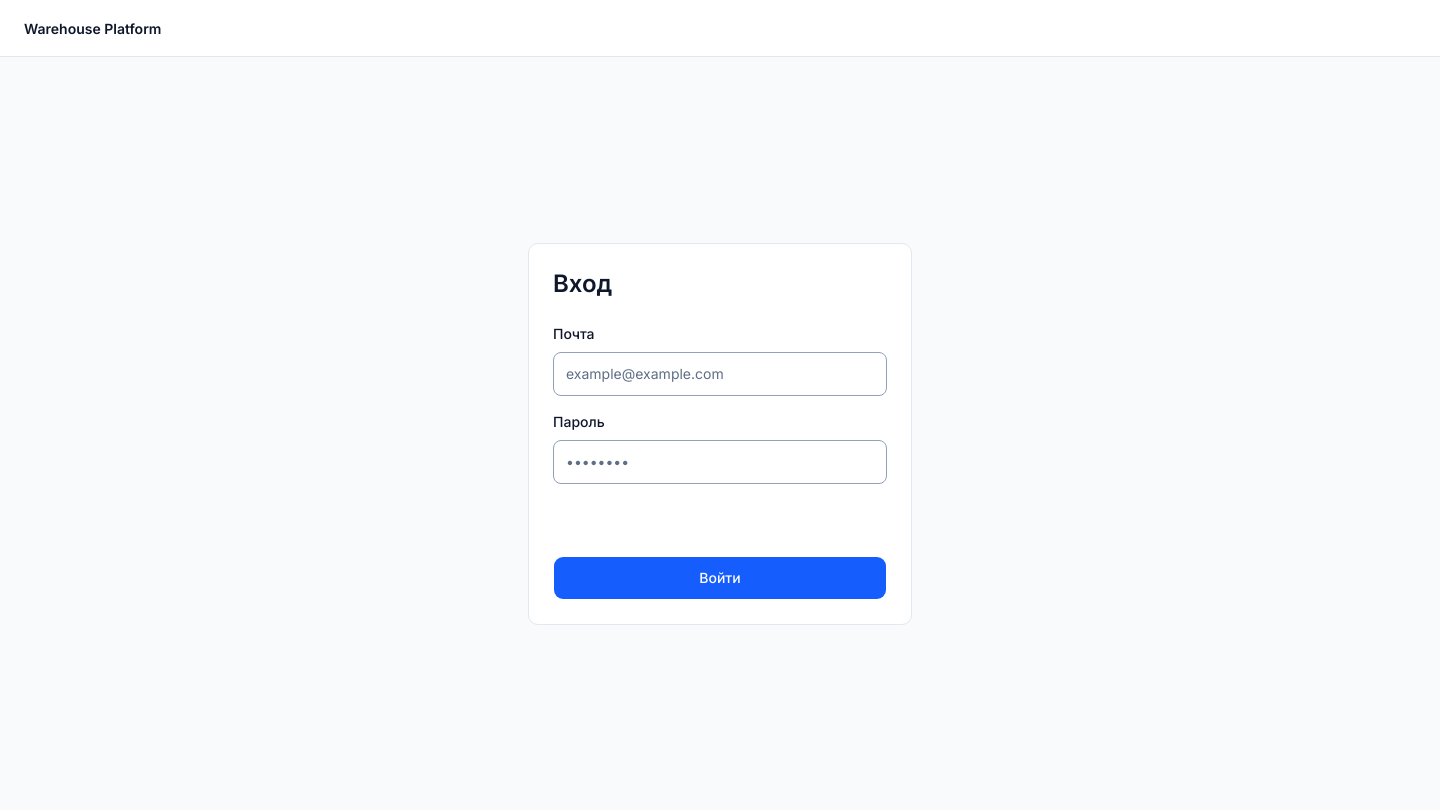
it: LoginPage › снова показывает ошибку, если после исправления очистить пароль
Click the button "Войти" at (720, 578), box [553,556,887,600]
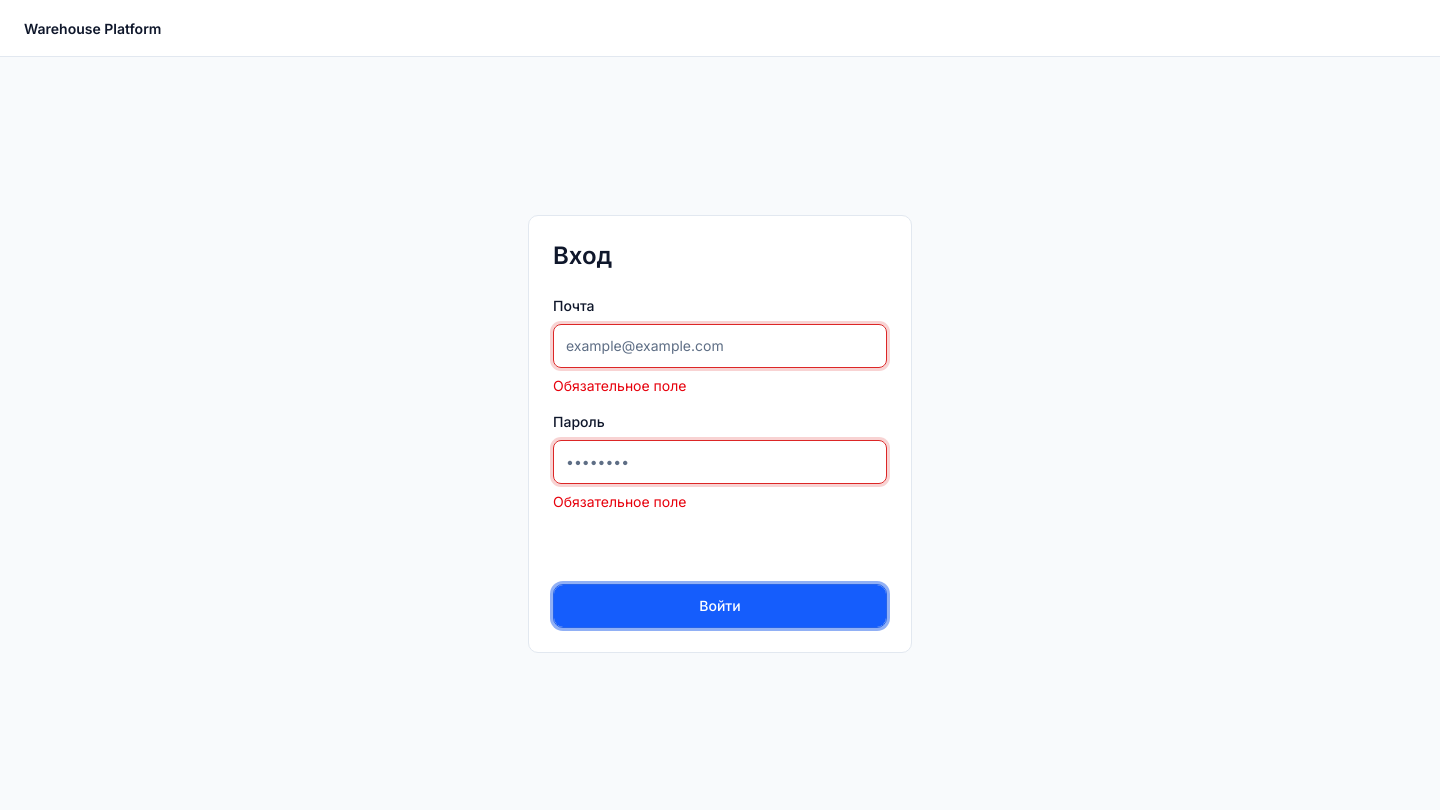
Type "secret" into the password field labelled "Пароль" at (720, 462), box [553,440,887,484]
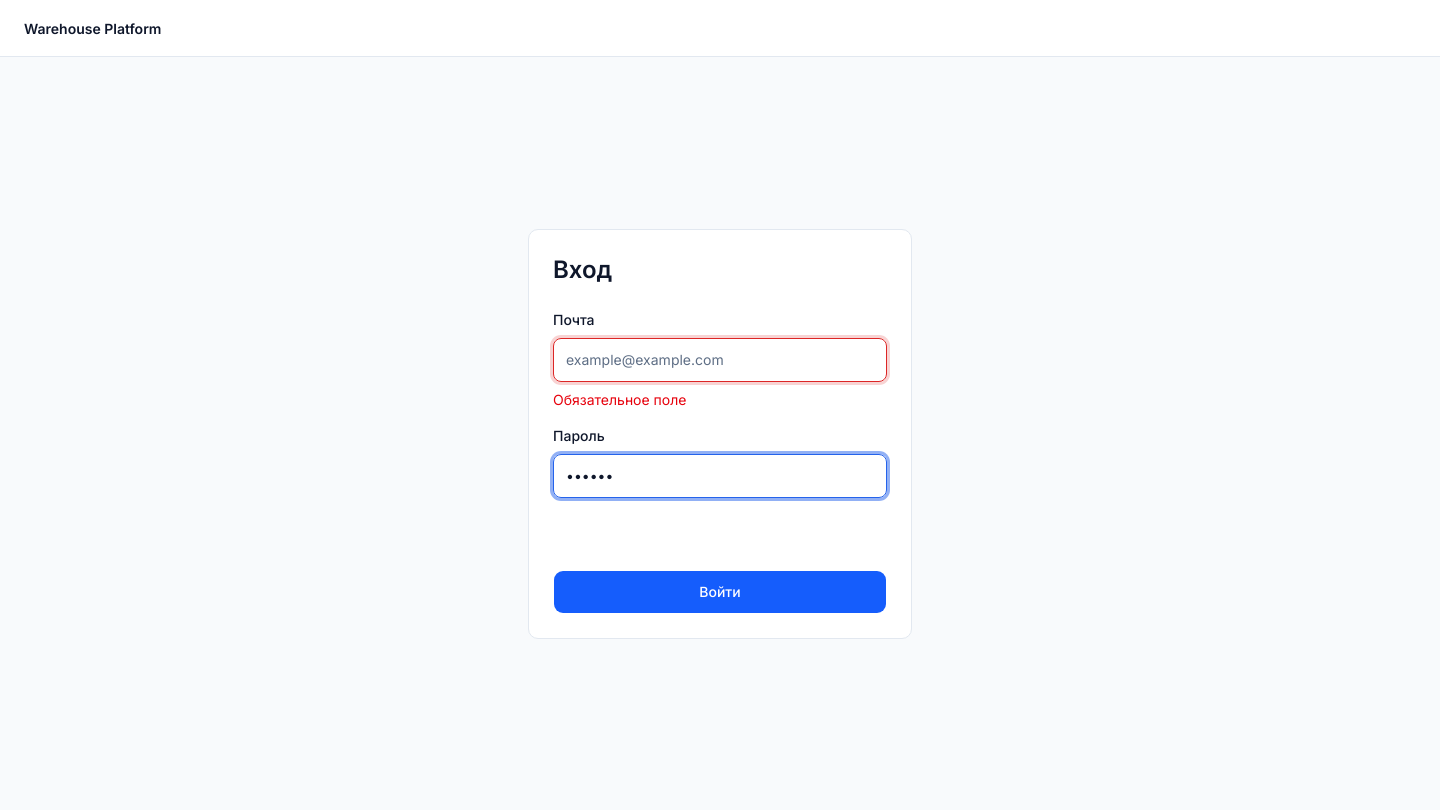
Now the password field labelled "Пароль" does not have attribute aria-invalid="true"
Clear the password field labelled "Пароль" at (720, 476), box [553,454,887,498]
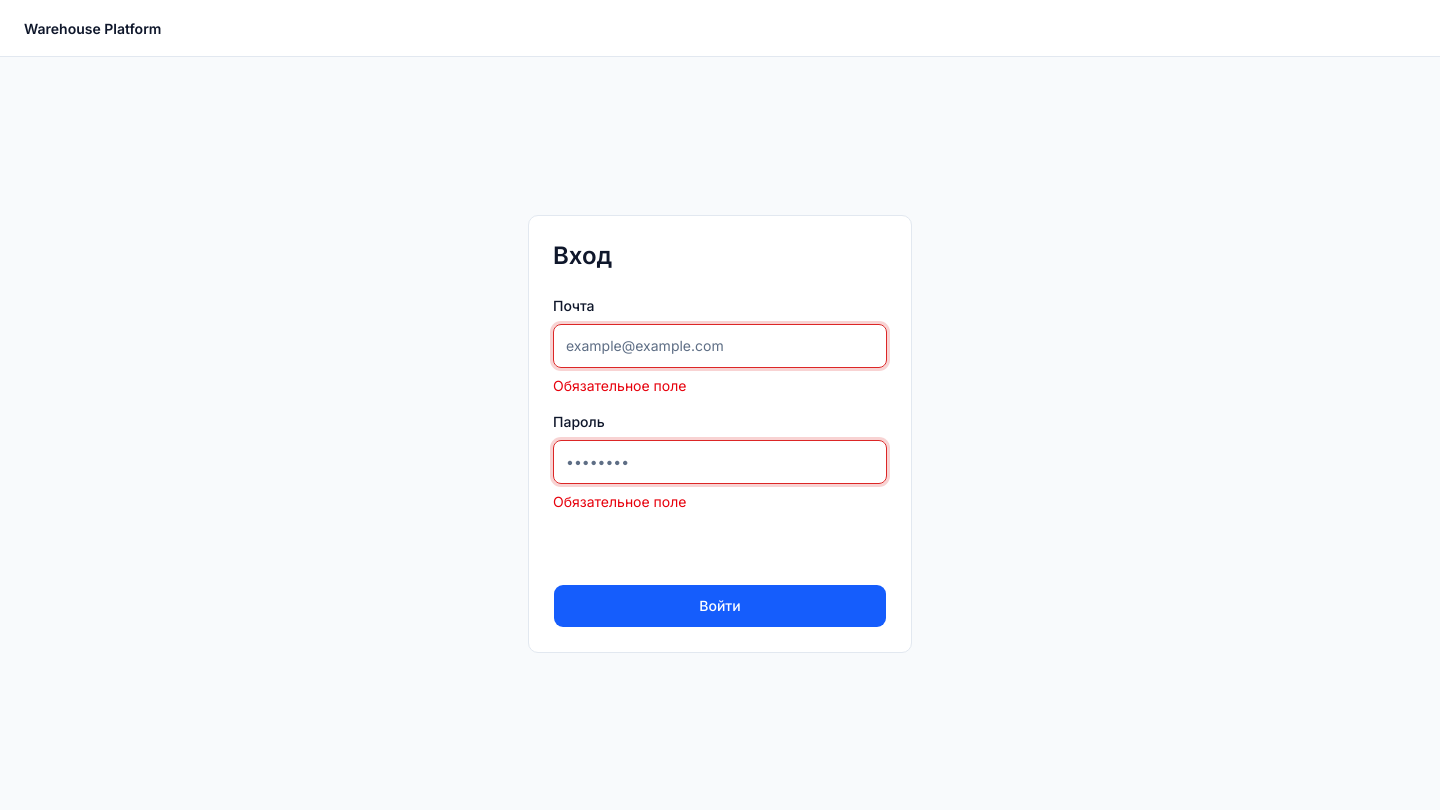
Now the password field labelled "Пароль" is marked as invalid, box [553,440,887,484]
